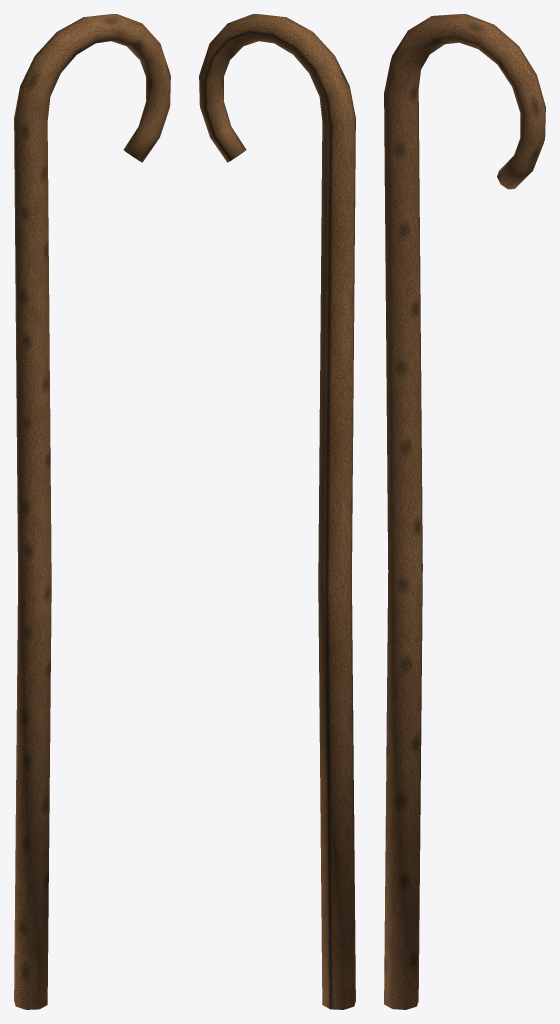
File: crook.glb
The picture shows the model from 3 angles, left to right: view 1: azimuth 30°, elevation 25°; view 2: azimuth 150°, elevation 25°; view 3: azimuth 330°, elevation 25°; orthographic projection. The views are drawn at different scales.
Parts seen in each view (by area): view 1: crook; view 2: crook; view 3: crook.
Part boxes in pixels (x1,y1,x2,y2): crook: (14, 14, 170, 1009); crook: (199, 14, 355, 1009); crook: (384, 14, 545, 1009).
Bounding box in the file's own units: 0.7657 × 4.62 × 0.15.
1 material, 1 textured.
